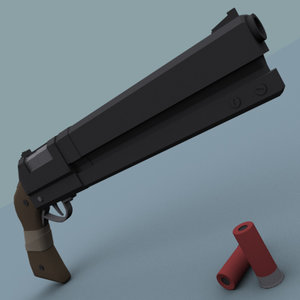weapon: (13, 8, 284, 222)
